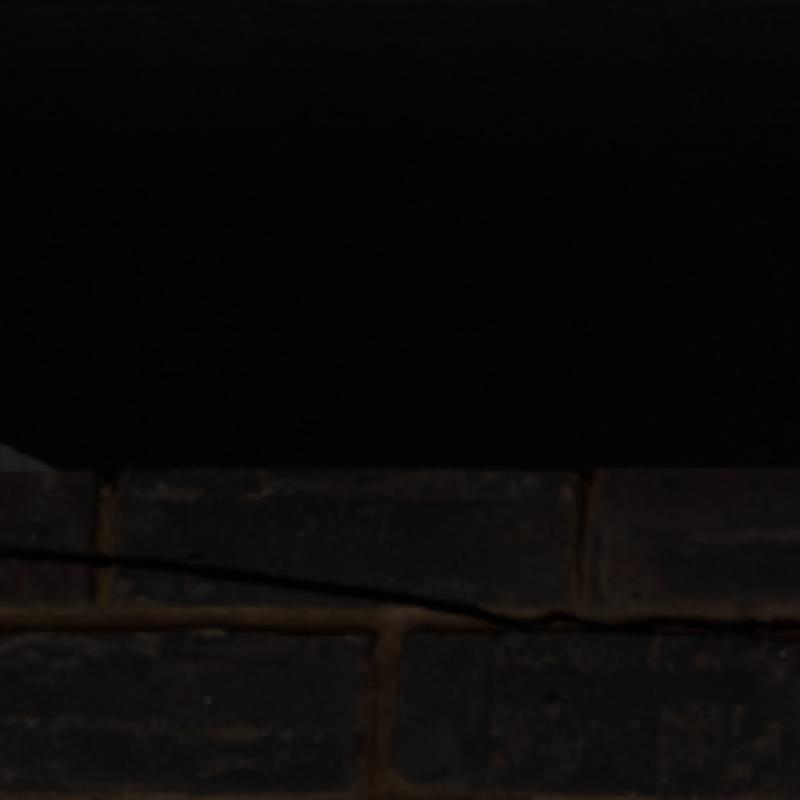pothole: (0, 546, 796, 629)
